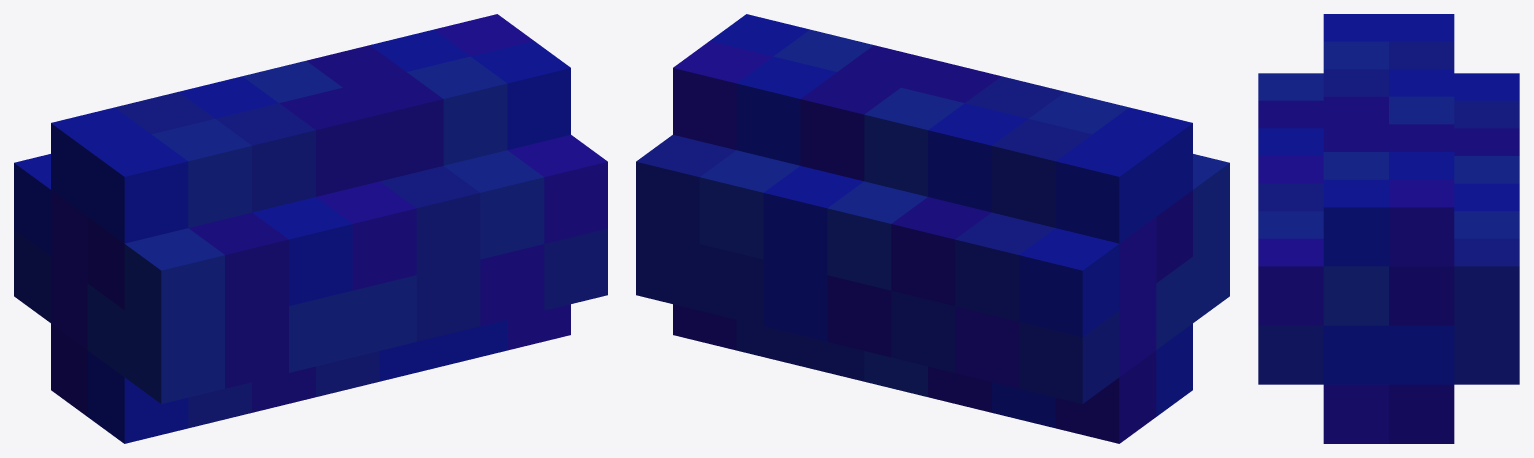
Rendered from FurroLowerArmR.fbx.
3 renders of one model, left to right at view 1: azimuth 30°, elevation 25°; view 2: azimuth 150°, elevation 25°; view 3: azimuth 270°, elevation 25°, orthographic. The views are drawn at different scales.
Visible parts, largest first — view 1: FurroLowerArmR; view 2: FurroLowerArmR; view 3: FurroLowerArmR.
Part boxes in pixels (x1,y1,x2,y2): FurroLowerArmR: [14, 14, 607, 443]; FurroLowerArmR: [636, 14, 1229, 443]; FurroLowerArmR: [1258, 14, 1519, 443].
Size of the model in its own units: 70 by 40 by 40.
